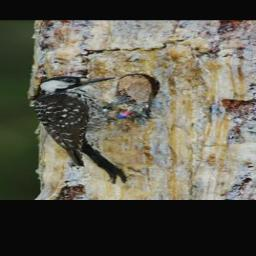Woodpecker: (31, 76, 149, 183)
